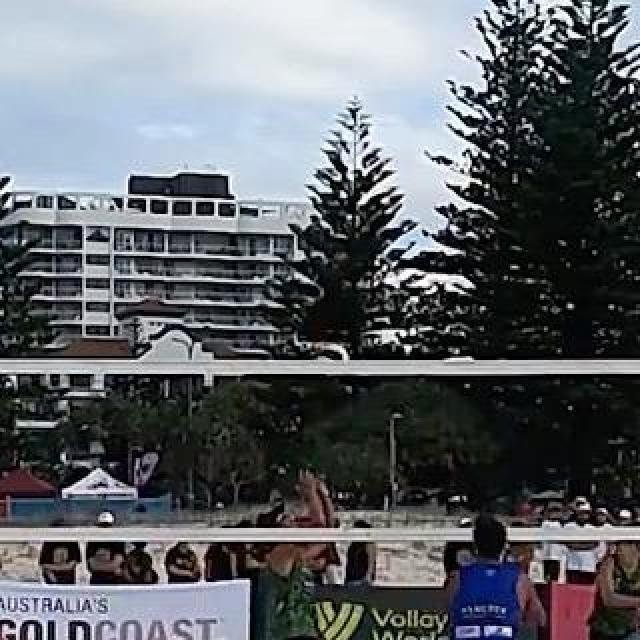volleyball: (316, 344, 350, 376)
